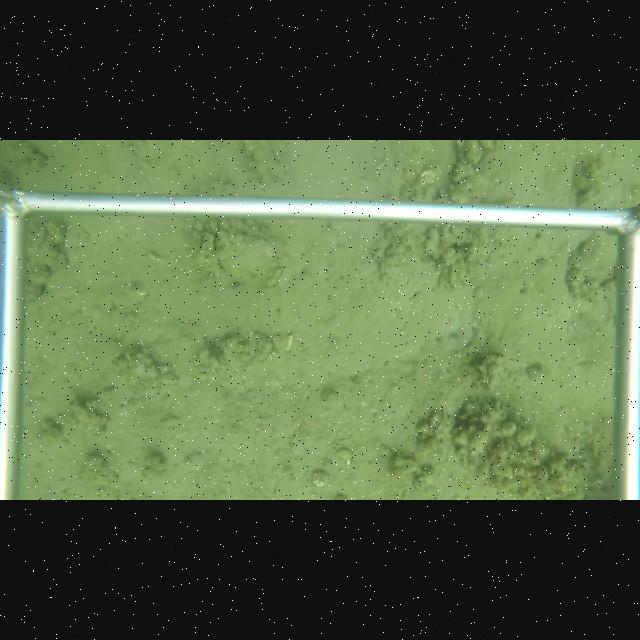Oyster-Closed: (208, 230, 280, 289), (565, 231, 618, 288)
